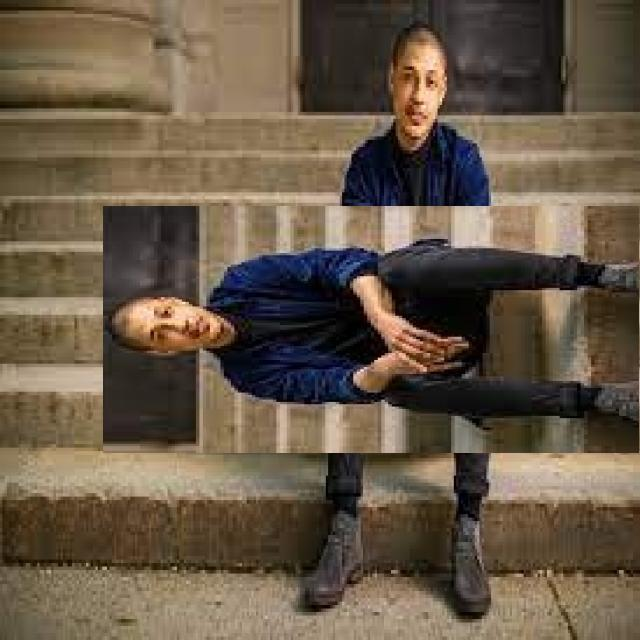NotFall: (145, 266, 640, 446)
